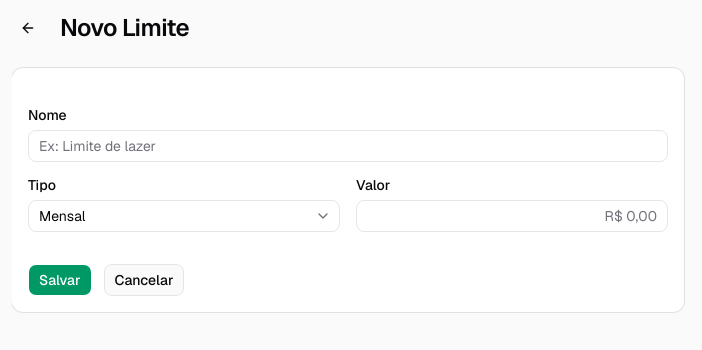
NovoLimitePage › exibe erro de validacao quando valor nao e positivo
Type "Limite de lazer" into the field labelled "Nome" at (348, 146), box [28,130,668,162]
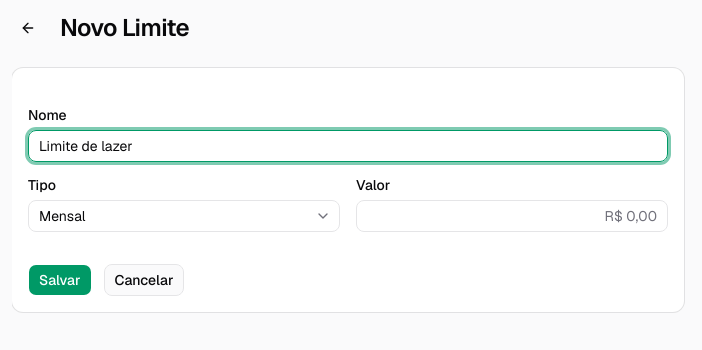
Click the button "Salvar" at (60, 280), box [28,264,92,296]
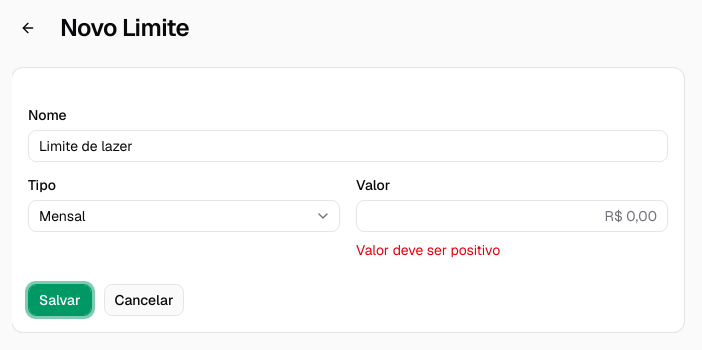
Expected: the text "Valor deve ser positivo" is shown, [356,241,500,259]
